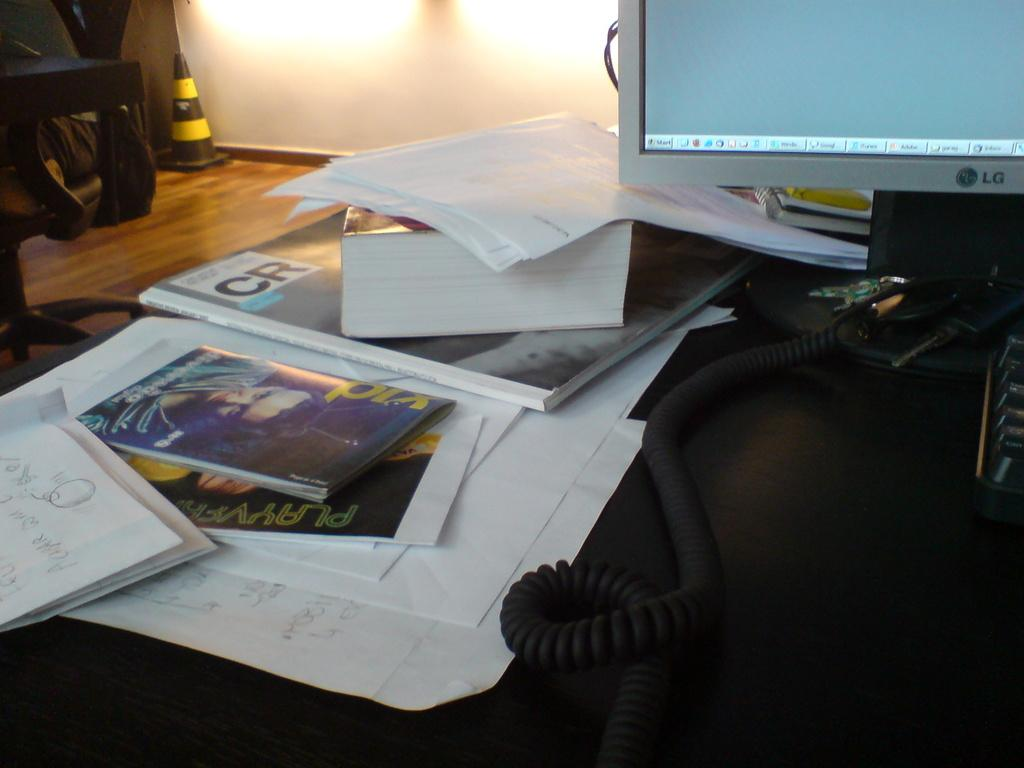Computer-keyboard: (972, 331, 1023, 501)
Computer-monitor: (604, 8, 1021, 217)
